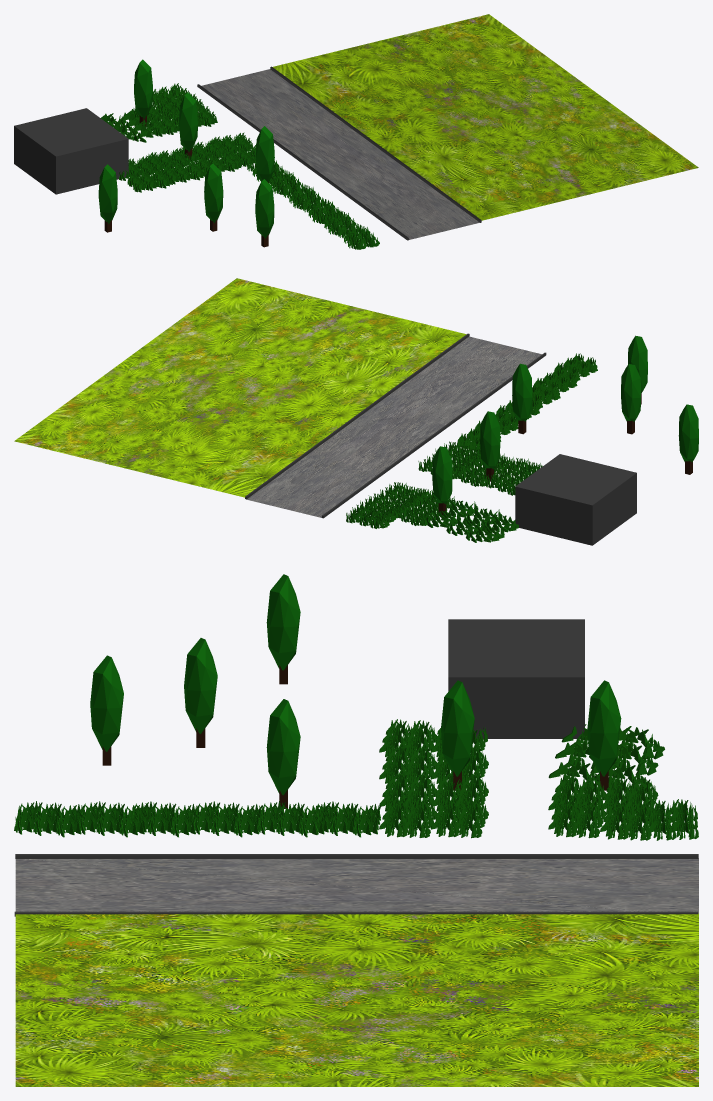
File: Module_2_StaticMesh.FBX
The picture shows the model from 3 angles, top to bottom: view 1: azimuth 30°, elevation 25°; view 2: azimuth 150°, elevation 25°; view 3: azimuth 270°, elevation 25°; orthographic projection. The views are drawn at different scales.
Parts seen in each view (by area): view 1: Module_2_StaticMesh_LOD0; view 2: Module_2_StaticMesh_LOD0; view 3: Module_2_StaticMesh_LOD0.
Boxes of the visible parts, <box> form: Module_2_StaticMesh_LOD0: <box>14,14,698,249</box>; Module_2_StaticMesh_LOD0: <box>14,278,698,545</box>; Module_2_StaticMesh_LOD0: <box>14,574,698,1086</box>.
Bounding box in the file's own units: 7119 × 5012 × 891.
